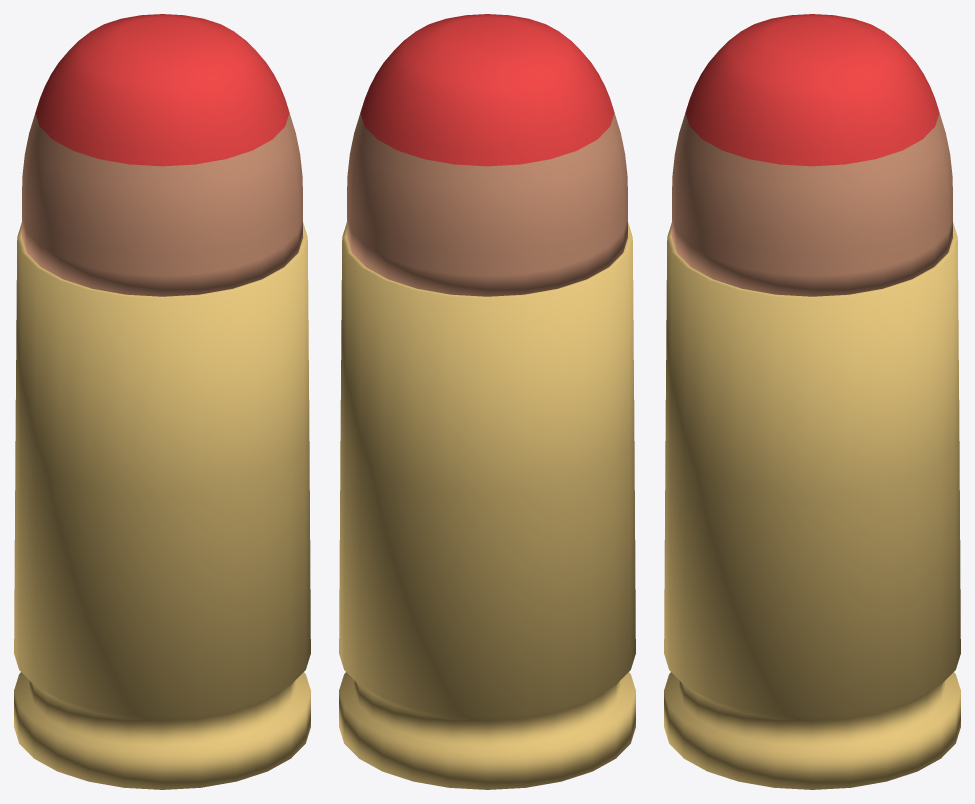
The picture shows the model from 3 angles, left to right: view 1: azimuth 30°, elevation 25°; view 2: azimuth 150°, elevation 25°; view 3: azimuth 270°, elevation 25°; orthographic projection.
Parts seen in each view (by area): view 1: vaina, bala_cuerpo, punta; view 2: vaina, bala_cuerpo, punta; view 3: vaina, bala_cuerpo, punta.
Part boxes in pixels (x1,y1,x2,y2): vaina: (14, 222, 310, 789); bala_cuerpo: (22, 113, 302, 296); punta: (35, 14, 289, 166); vaina: (339, 222, 635, 789); bala_cuerpo: (347, 113, 627, 296); punta: (360, 14, 614, 166); vaina: (664, 222, 960, 789); bala_cuerpo: (672, 113, 952, 296); punta: (685, 14, 939, 166).
Bounding box in the file's own units: 0.0095 × 0.0244 × 0.0095.
